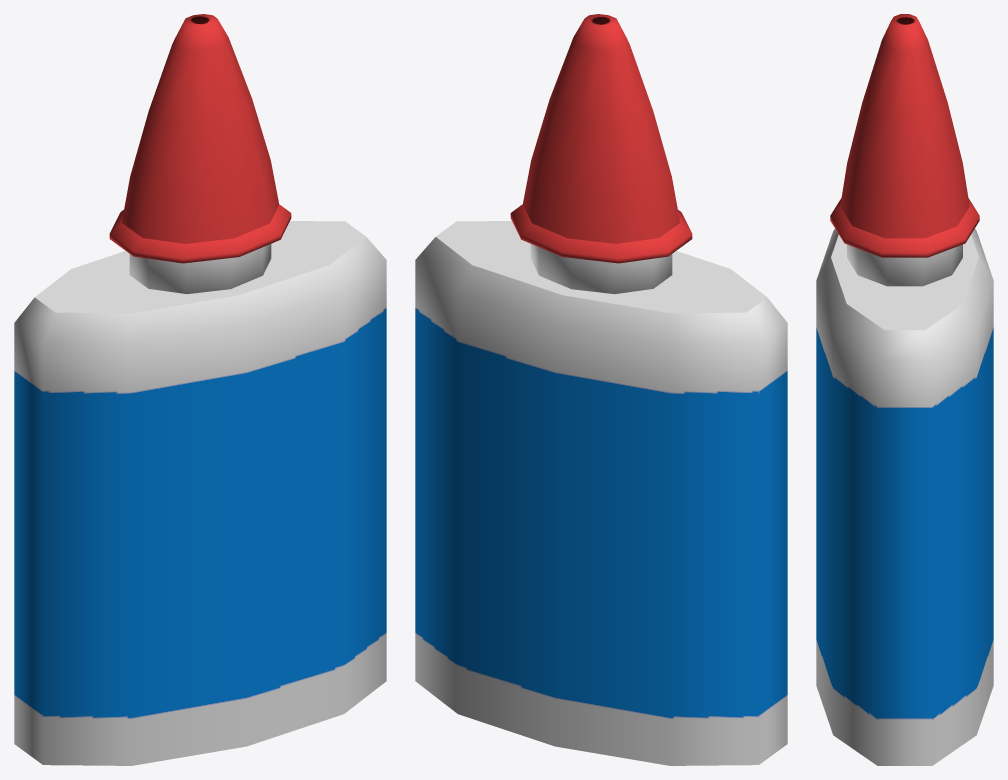
Rendered from Glue.fbx.
The picture shows the model from 3 angles, left to right: view 1: azimuth 30°, elevation 25°; view 2: azimuth 150°, elevation 25°; view 3: azimuth 270°, elevation 25°; orthographic projection. The views are drawn at different scales.
Visible parts, largest first — view 1: 柱体; view 2: 柱体; view 3: 柱体.
Boxes of the visible parts, <box> form: 柱体: <box>14,14,386,765</box>; 柱体: <box>415,14,787,765</box>; 柱体: <box>816,14,993,765</box>.
Bounding box in the file's own units: 15.02 × 28.92 × 7.
1 material, 1 textured.
